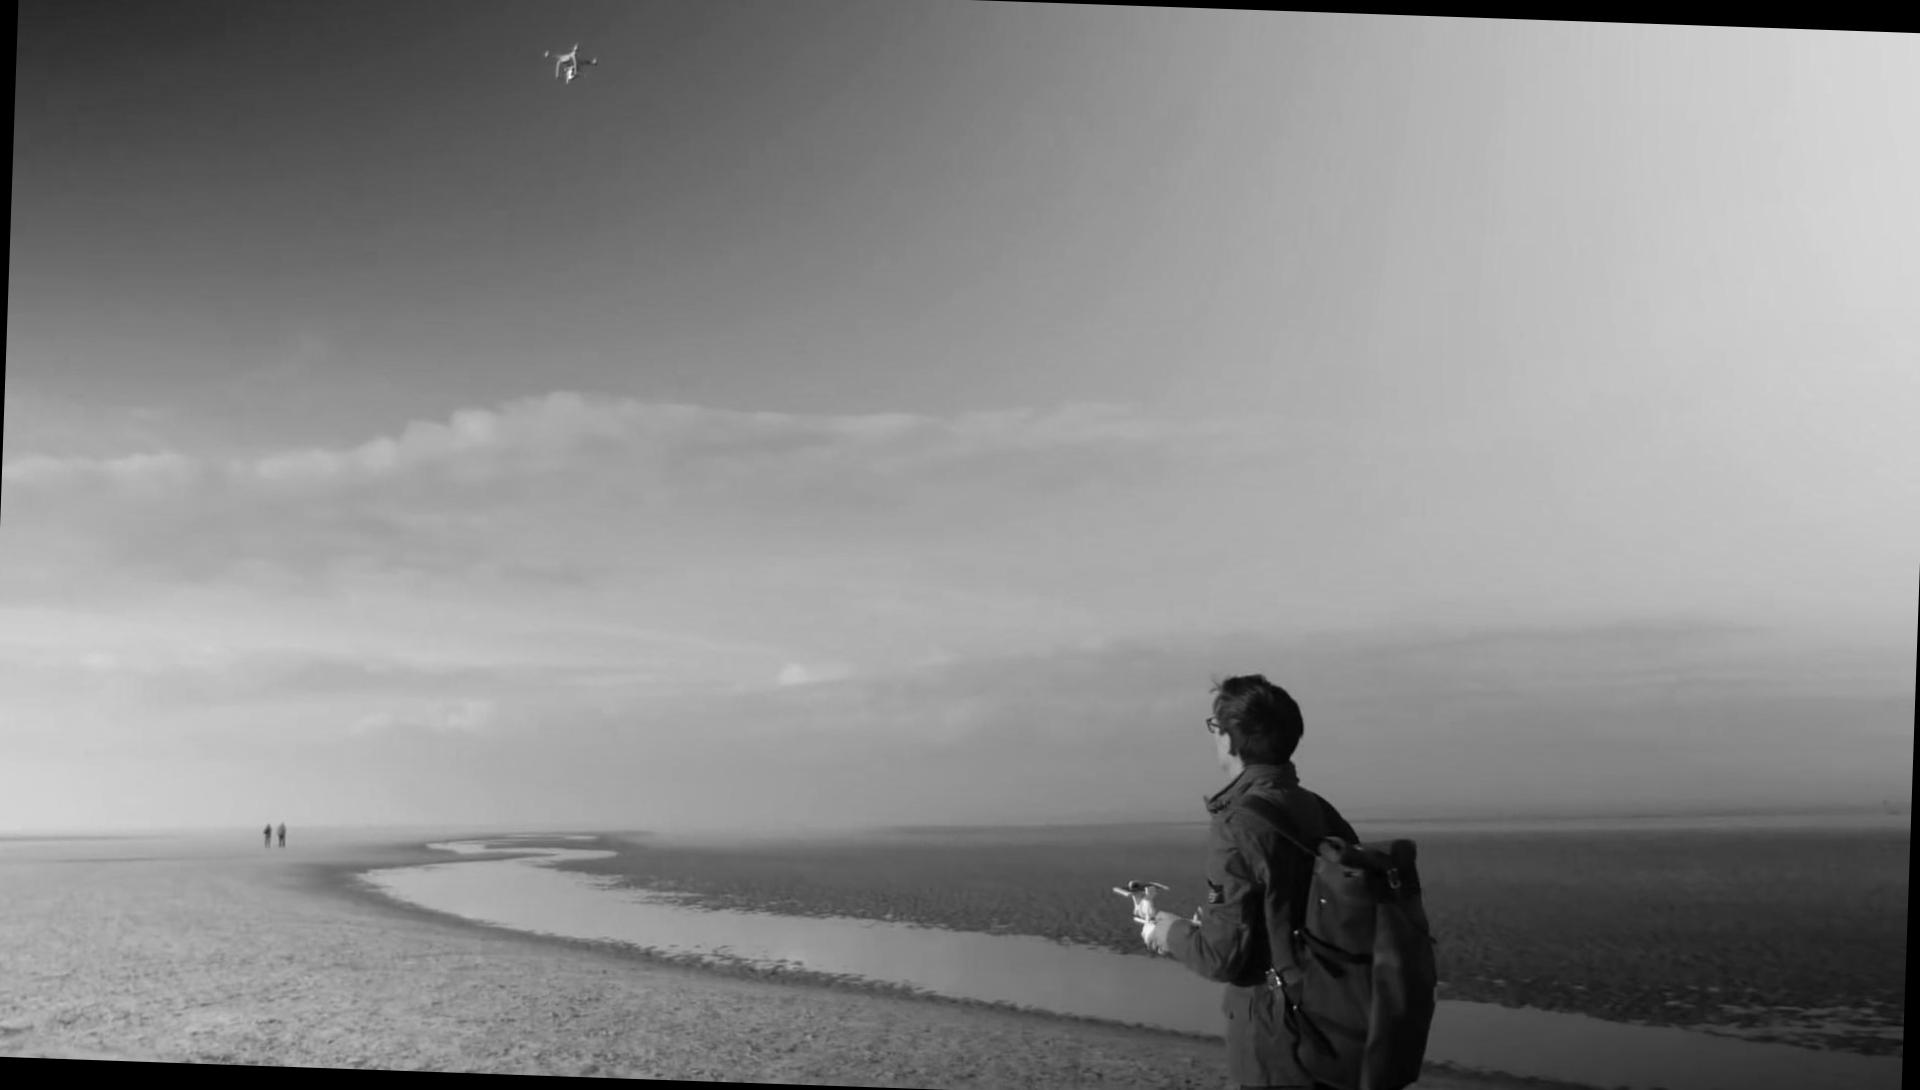drone: (539, 38, 605, 87)
